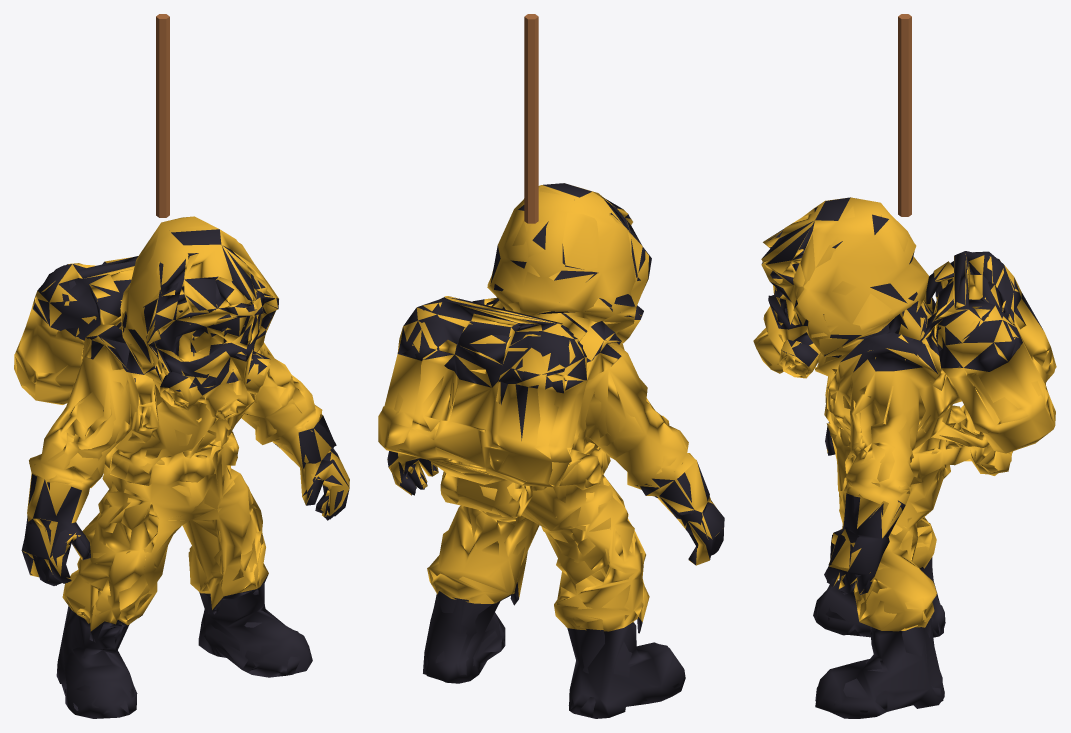
3 renders of one model, left to right at view 1: azimuth 30°, elevation 25°; view 2: azimuth 150°, elevation 25°; view 3: azimuth 270°, elevation 25°, orthographic. The views are drawn at different scales.
Visible parts, largest first — view 1: effigy-mesh, rope; view 2: effigy-mesh, rope; view 3: effigy-mesh, rope.
Part boxes in pixels (x1,y1,x2,y2): effigy-mesh: (14,216,349,718); rope: (156,14,169,217); effigy-mesh: (378,183,724,718); rope: (524,14,538,223); effigy-mesh: (753,197,1056,718); rope: (898,14,911,216).
Size of the model in its own units: 1.3 by 2.55 by 1.08.
